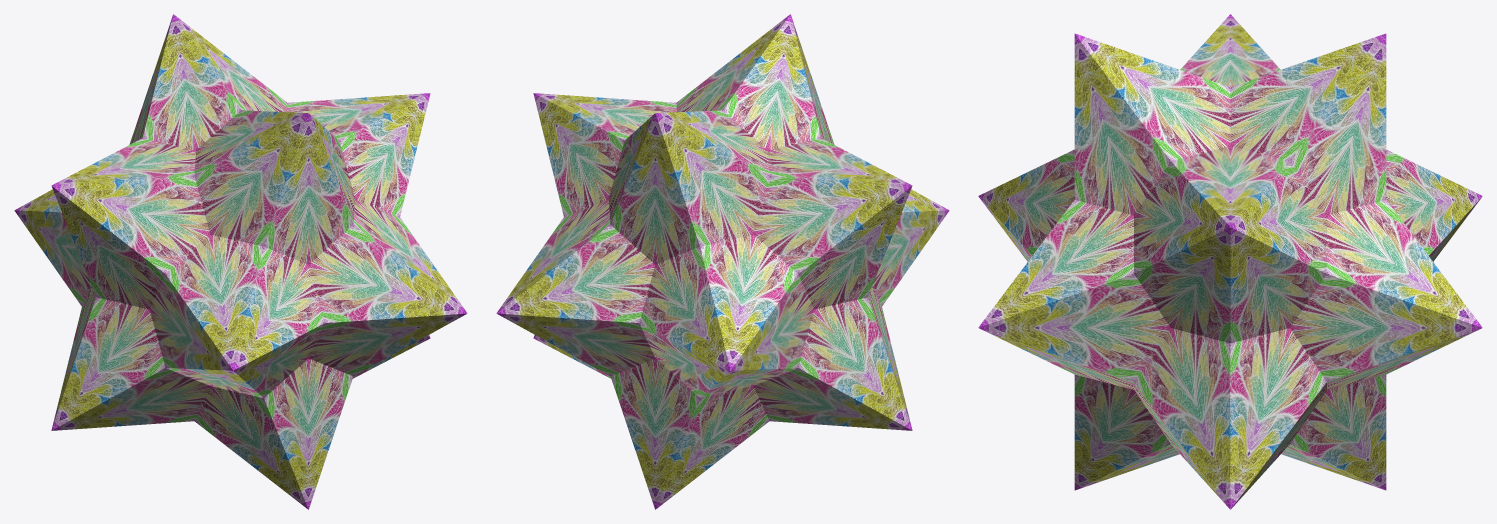
Rendered from MedialRhombicTriacontahedron7.obj.
3 views of the same model, side by side, from view 1: azimuth 30°, elevation 25°; view 2: azimuth 150°, elevation 25°; view 3: azimuth 270°, elevation 25° (orthographic). The views are drawn at different scales.
Bounding box in the file's own units: 2.43 × 2.43 × 2.43.
Materials: 1 (1 with a texture image).
